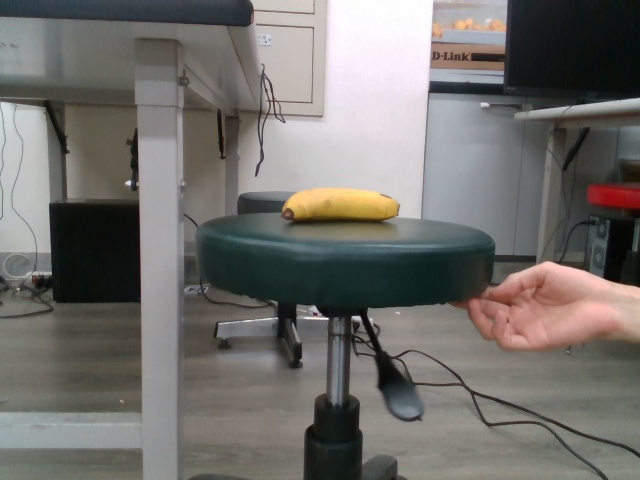banana: (278, 186, 403, 224)
